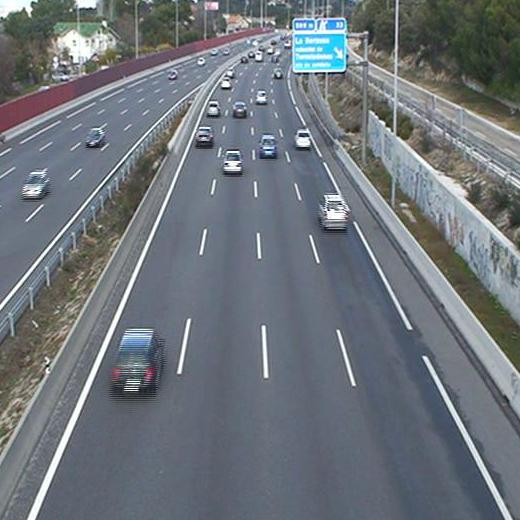car: (115, 331, 164, 394), (321, 195, 347, 231), (223, 151, 243, 172), (194, 127, 211, 147), (260, 135, 275, 157), (295, 129, 311, 149), (206, 101, 221, 118), (233, 102, 247, 116), (255, 90, 266, 103), (220, 78, 230, 90), (274, 68, 284, 79)
